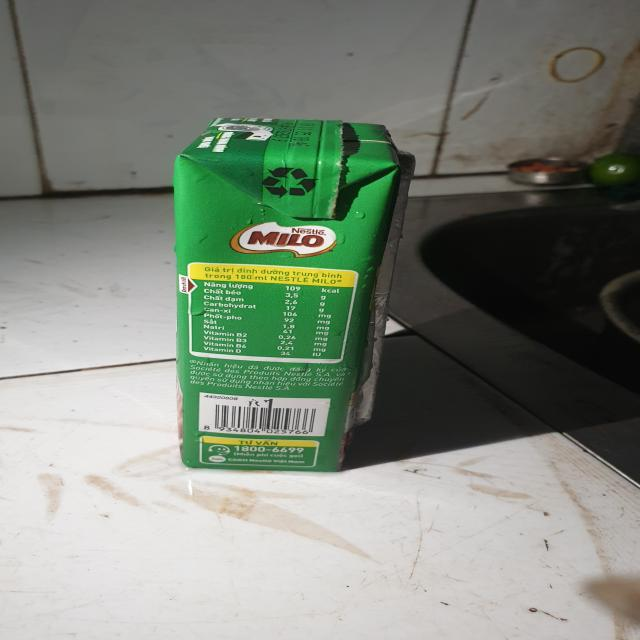Milo: (158, 112, 427, 477)
